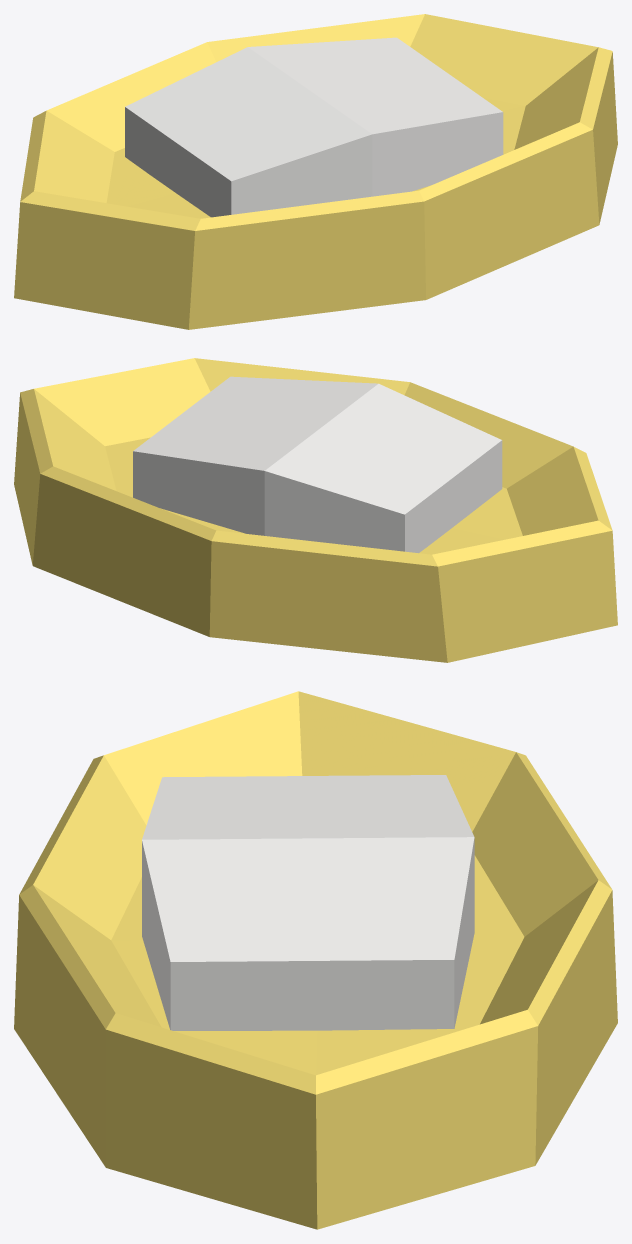
Rendered from Soap_1.fbx.
3 renders of one model, top to bottom at view 1: azimuth 30°, elevation 25°; view 2: azimuth 150°, elevation 25°; view 3: azimuth 270°, elevation 25°, orthographic. The views are drawn at different scales.
Visible parts, largest first — view 1: Soap_1; view 2: Soap_1; view 3: Soap_1.
Boxes of the visible parts, x1,y1,x2,y2 form: Soap_1: [14, 14, 617, 329]; Soap_1: [14, 358, 617, 662]; Soap_1: [14, 691, 617, 1229].
Size of the model in its own units: 23.66 by 14.7 by 4.95.
